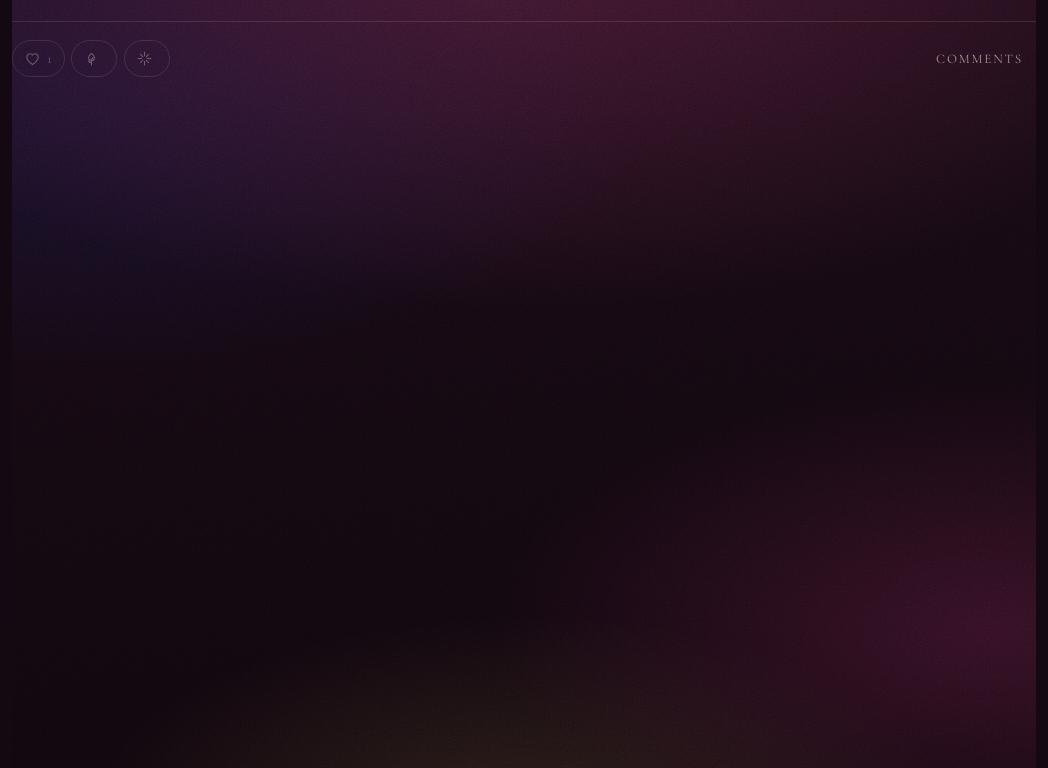
Test case: a guest › can react, and it counts alongside the partners
The width and height of the screenshot is (1048, 768).
Click the button named "heart".
click(38, 59)  # box [12,40,65,77]
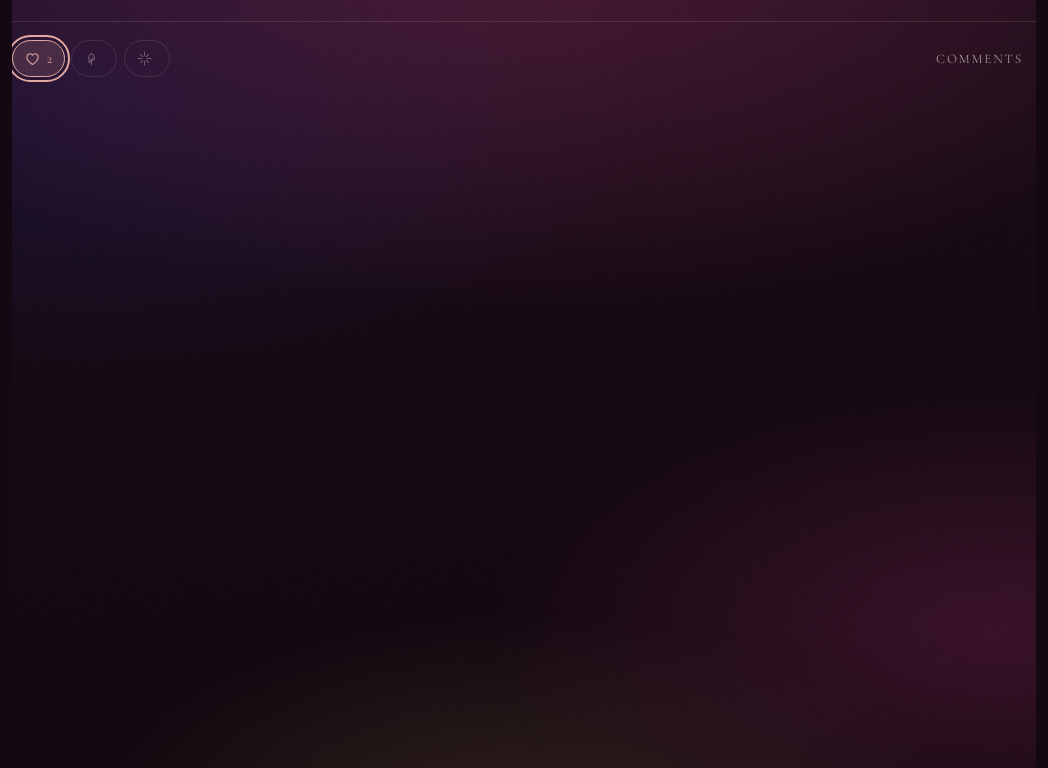
Check: the button named "heart" reads "2", box [12,40,65,77]
